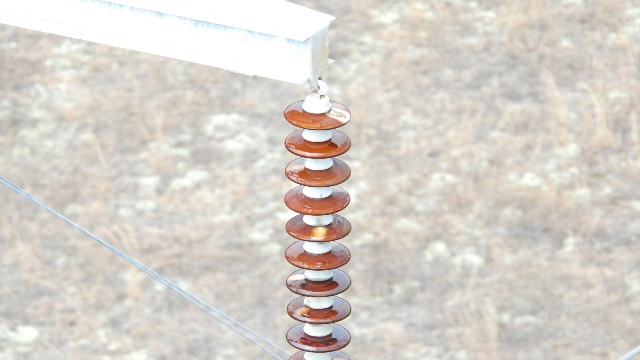insulator_unspecified: (283, 98, 352, 359)
pollution_flashover_local: (325, 106, 351, 124), (310, 225, 327, 240), (292, 305, 311, 317), (286, 273, 308, 282)
